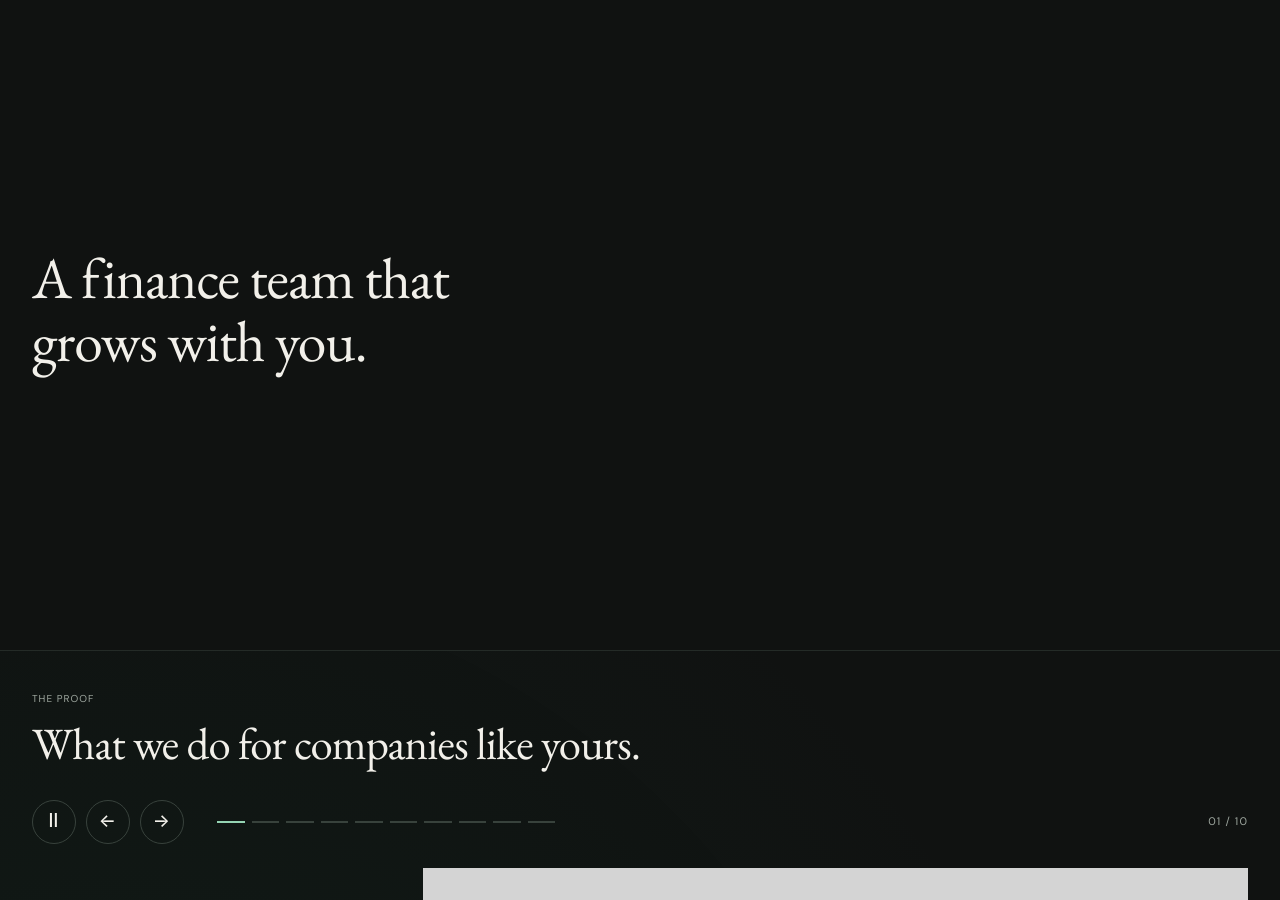
Test: challenge framing and automatic proof motion › does not turn page scrolling into a permanent carousel pause
The width and height of the screenshot is (1280, 900).
Click the button named "Pause customer stories": point(54, 822) [32,800,76,844]
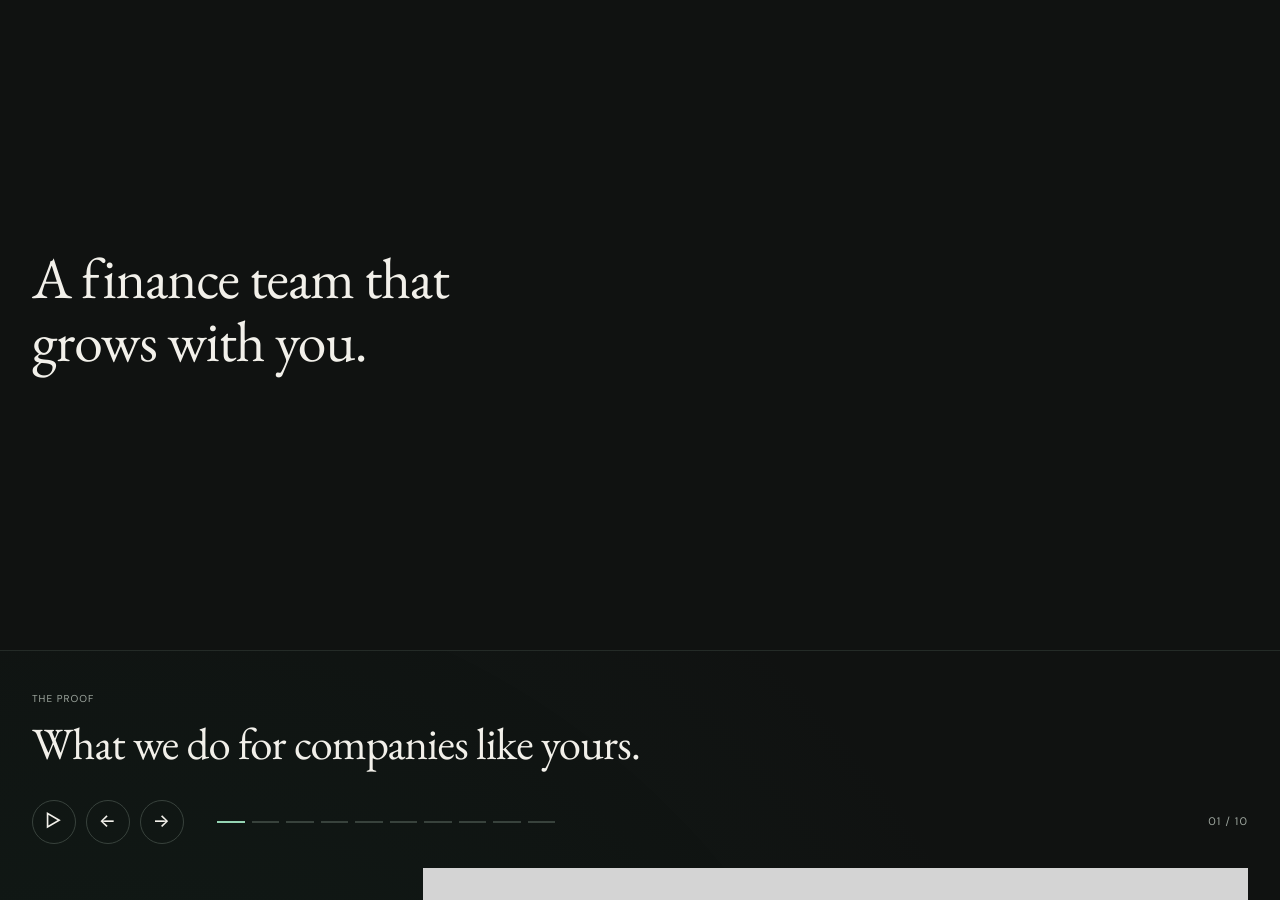
expect the button named "Play customer stories" is shown: met, box [32,800,76,844]
